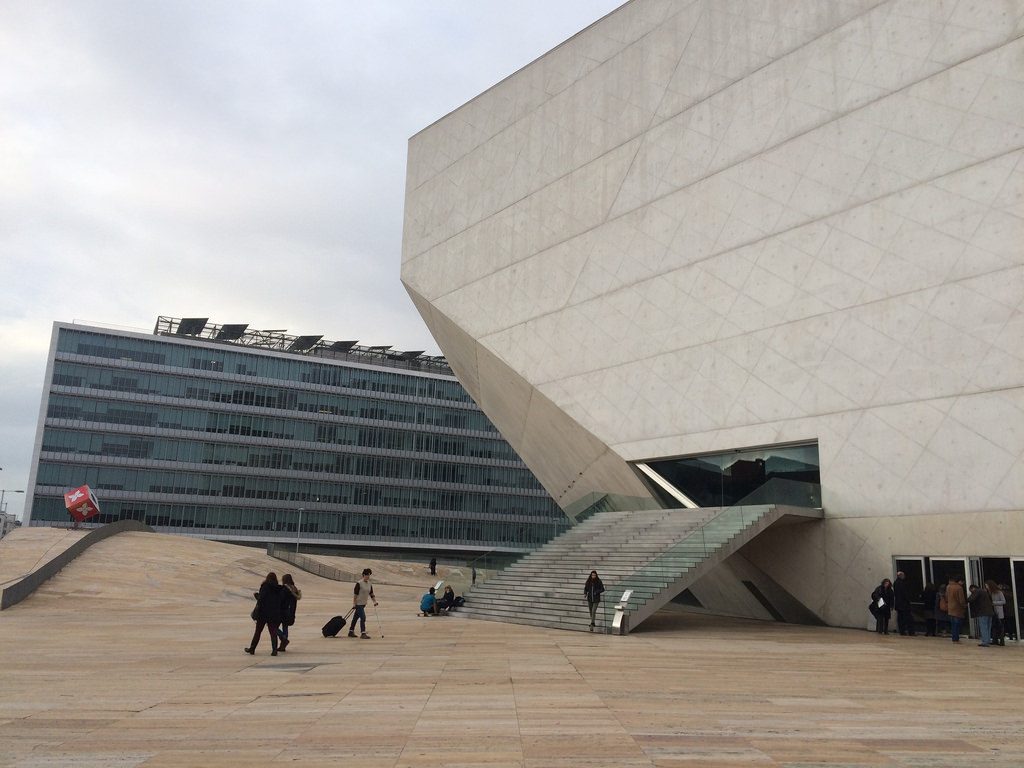musica: (397, 0, 1023, 642)
